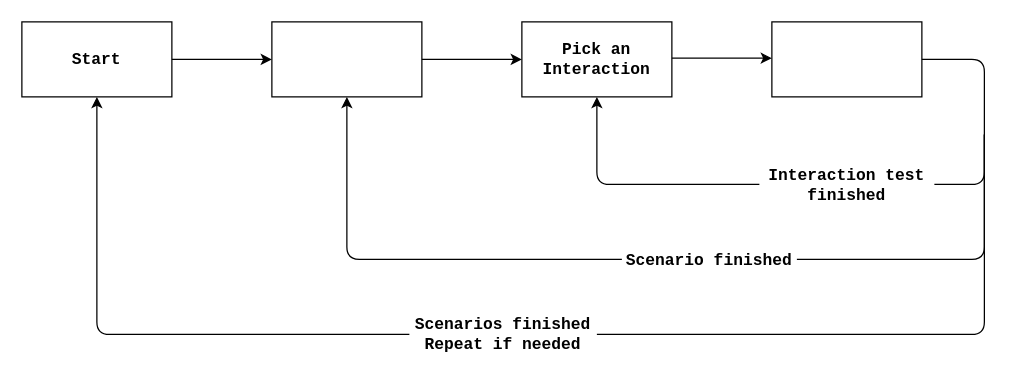
Some shapes in this 1016 by 375 pixel diagram are drawn without their labels. Here are the shapes that lost their labels. From the top down, the centre of each, then its label:
At pixel 346 59: "Pick a Test Scenario".
At pixel 846 59: "Test Interaction".
